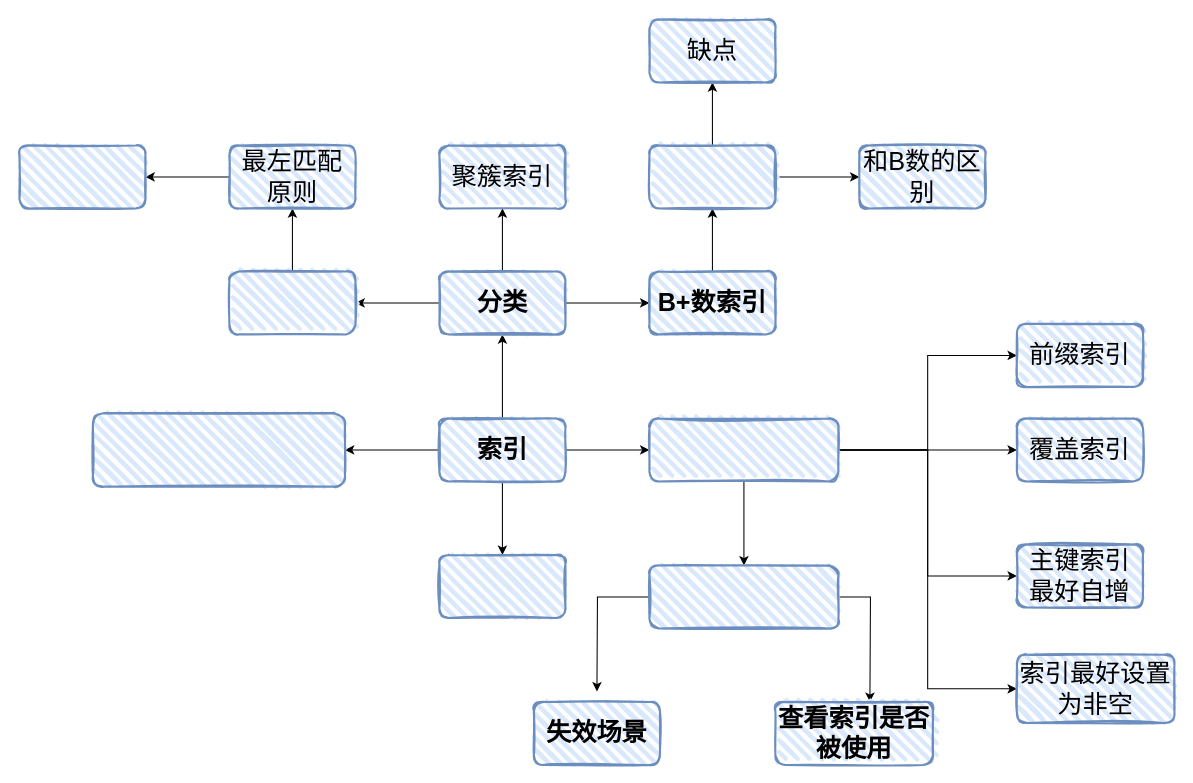
The diagram is 1193 pixels wide and 783 high, and some of its shapes have lost their labels. The centre of each missing label's shape, as x and y in pixels:
B+的理解: point 712,176
什么时候用/不用索引: point 218,449
优点/缺点: point 502,585
索引下推: point 82,176
索引的优化: point 743,449
联合索引: point 292,302
防止索引失效: point 743,596
